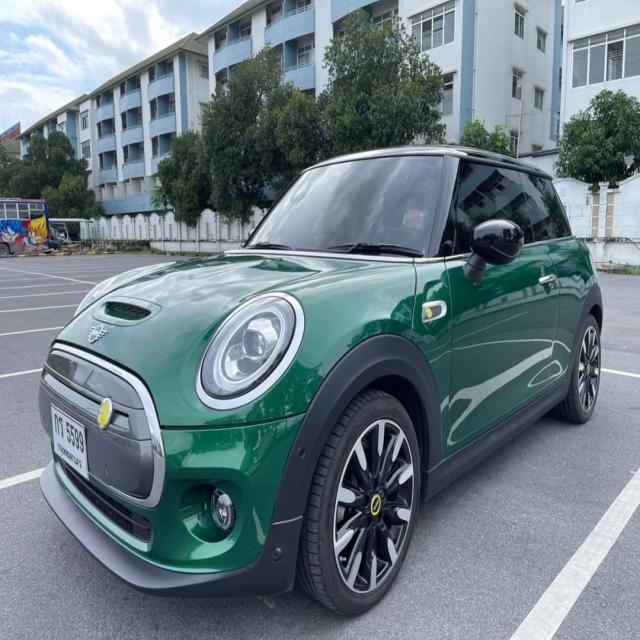license_plate: (48, 402, 92, 486)
